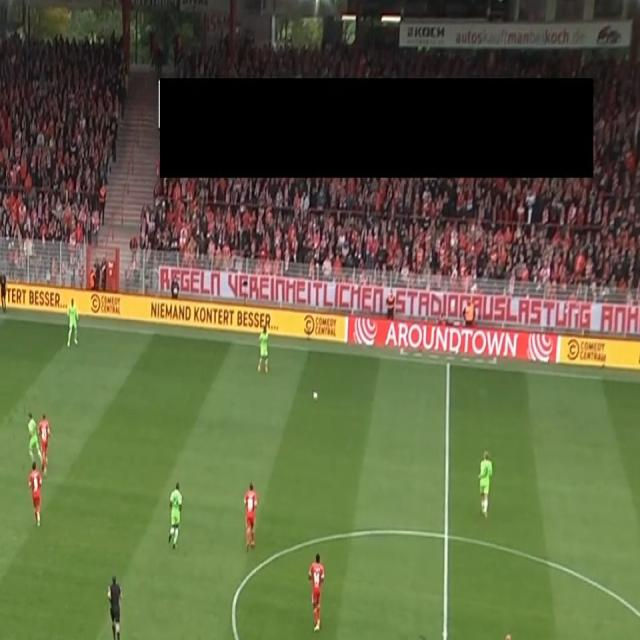ball: (310, 388, 319, 405)
